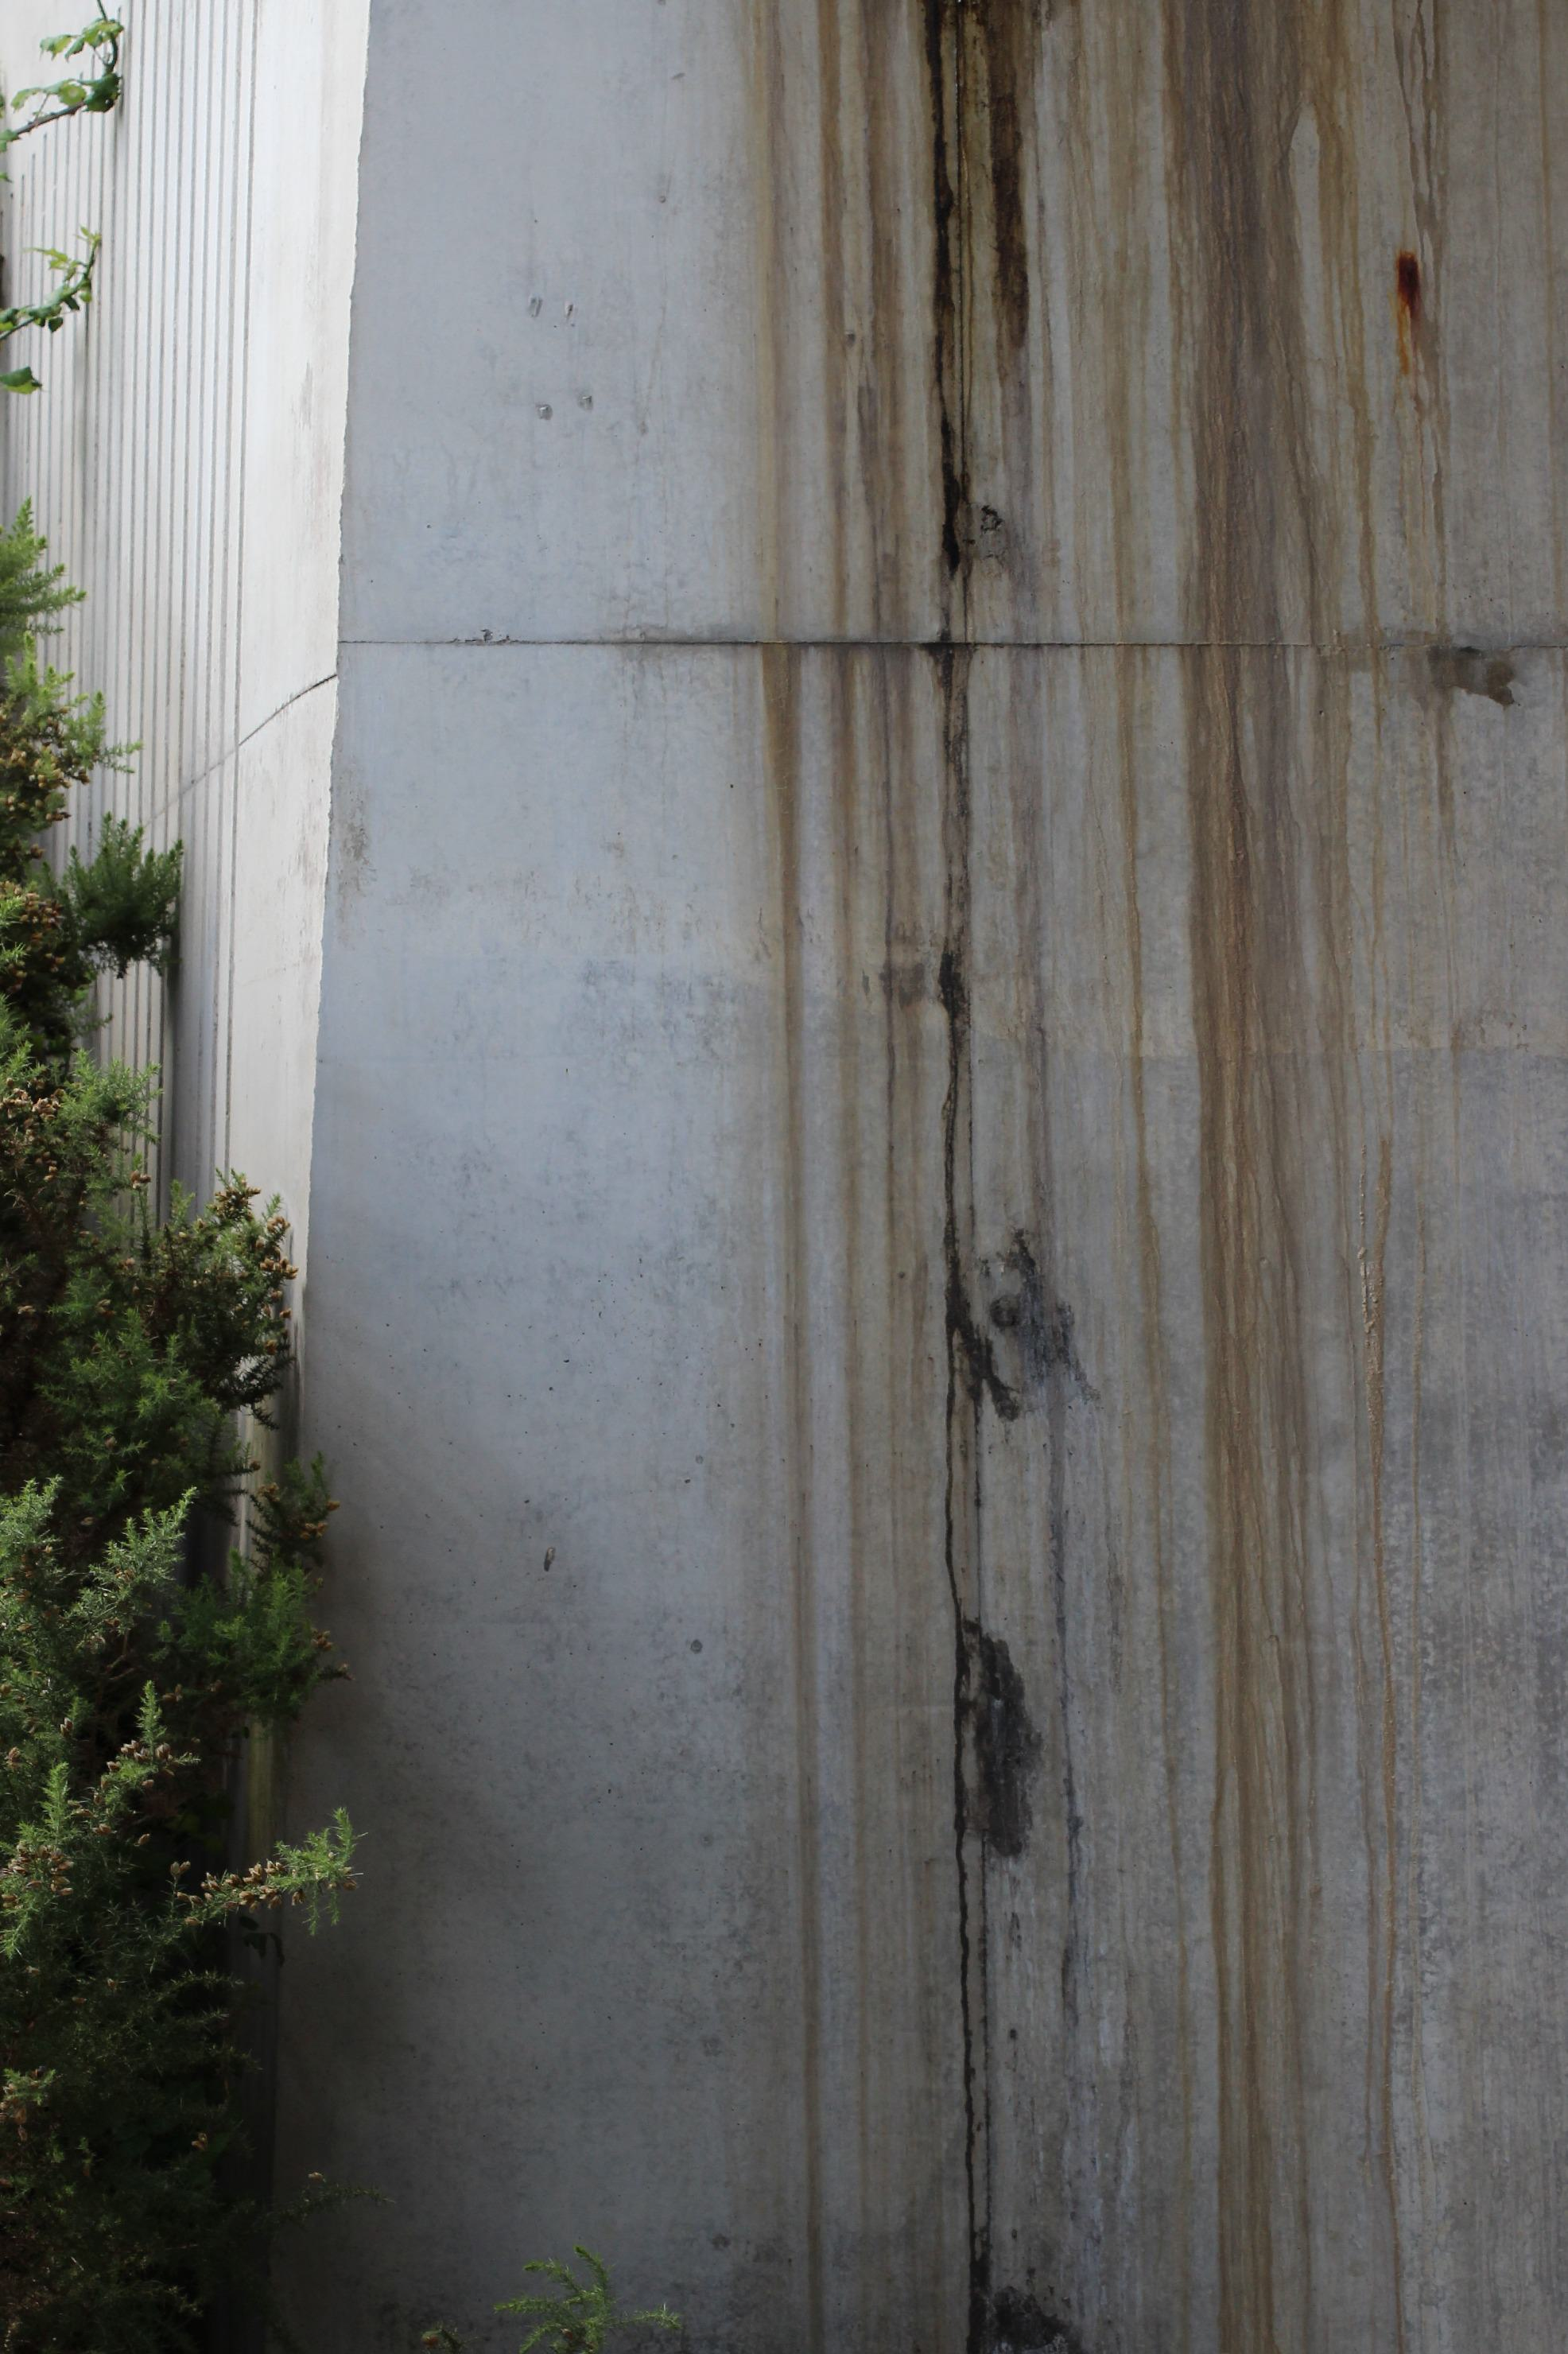Corrosion: (756, 0, 1451, 2354), (1396, 247, 1423, 380)
Crack: (938, 947, 996, 2354)
Spalling: (989, 1227, 1106, 1404), (969, 1635, 1045, 1860), (996, 2286, 1078, 2354)
